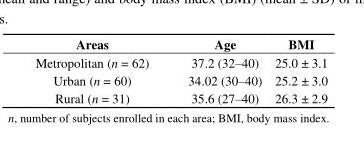table: (34, 34, 327, 105)
table column: (34, 34, 167, 105), (167, 34, 267, 105), (267, 34, 327, 105)
table column header: (34, 34, 327, 52)
table row: (34, 34, 327, 52), (34, 52, 327, 70), (34, 70, 327, 88), (34, 88, 327, 105)
